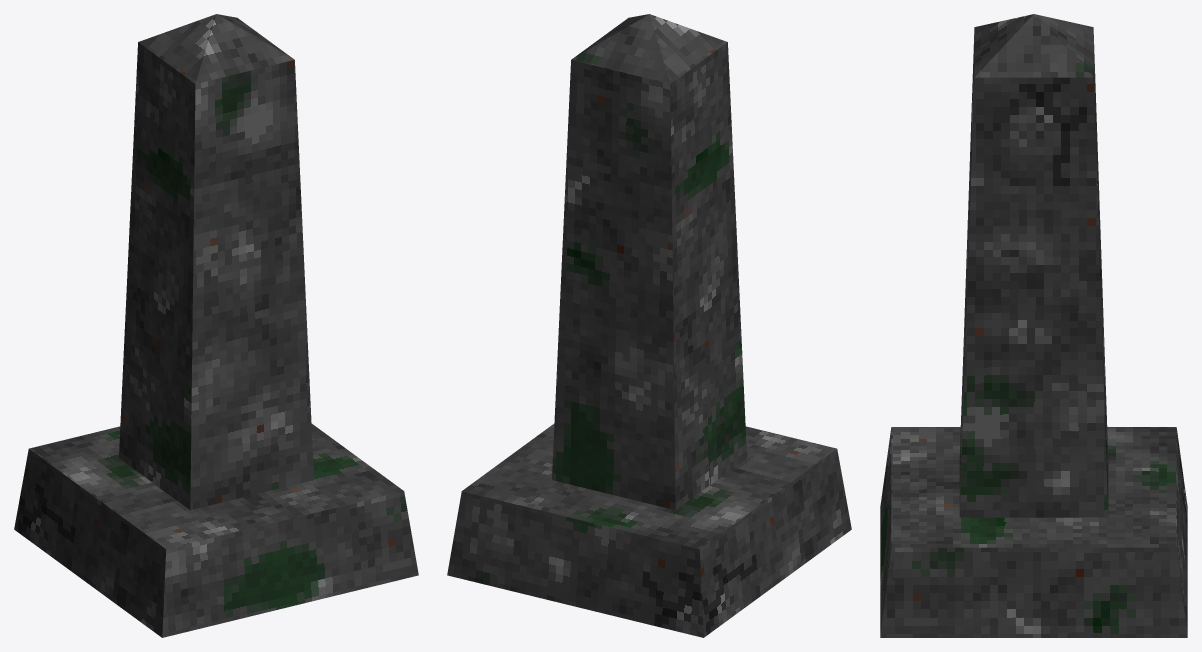
File: DestructableGravestone3.fbx
3 renders of one model, left to right at view 1: azimuth 30°, elevation 25°; view 2: azimuth 150°, elevation 25°; view 3: azimuth 270°, elevation 25°, orthographic. The views are drawn at different scales.
Parts seen in each view (by area): view 1: Destructable Gravestone3, Cube.033_cell.032, Cube.033_cell.027, Cube.033_cell.011, Cube.033_cell.035, Cube.033_cell.007, Cube.033_cell.023, Cube.033_cell.034, Cube.033_cell.029_cell.004, Cube.033_cell.020, Cube.033_cell.012_cell.001, Cube.033_cell.012_cell.003 (+9 smaller); view 2: Destructable Gravestone3, Cube.033_cell.023, Cube.033_cell.032, Cube.033_cell.034, Cube.033_cell.024, Cube.033_cell.007, Cube.033_cell.009, Cube.033_cell.021_cell.001, Cube.033_cell.030_cell.006; view 3: Destructable Gravestone3, Cube.033_cell.035, Cube.033_cell.011, Cube.033_cell.020, Cube.033_cell.027, Cube.033_cell.026, Cube.033_cell.032, Cube.033_cell.024, Cube.033_cell.021_cell.002, Cube.033_cell.021_cell.001, Cube.033_cell.012_cell.001, Cube.033_cell.021_cell.004 (+7 smaller).
Part boxes in pixels (left/top/right/bottom): Destructable Gravestone3: left=14, top=14, right=418, bottom=637; Cube.033_cell.032: left=155, top=26, right=297, bottom=209; Cube.033_cell.027: left=201, top=425, right=374, bottom=599; Cube.033_cell.011: left=193, top=252, right=308, bottom=395; Cube.033_cell.035: left=193, top=113, right=303, bottom=255; Cube.033_cell.007: left=136, top=415, right=246, bottom=621; Cube.033_cell.023: left=96, top=378, right=187, bottom=575; Cube.033_cell.034: left=131, top=16, right=250, bottom=212; Cube.033_cell.029_cell.004: left=227, top=566, right=304, bottom=619; Cube.033_cell.020: left=312, top=432, right=392, bottom=486; Cube.033_cell.012_cell.001: left=273, top=372, right=311, bottom=433; Cube.033_cell.012_cell.003: left=225, top=381, right=274, bottom=429; Destructable Gravestone3: left=447, top=14, right=851, bottom=637; Cube.033_cell.023: left=704, top=360, right=816, bottom=518; Cube.033_cell.032: left=599, top=15, right=733, bottom=172; Cube.033_cell.034: left=573, top=45, right=707, bottom=235; Cube.033_cell.024: left=611, top=498, right=765, bottom=631; Cube.033_cell.007: left=741, top=362, right=848, bottom=515; Cube.033_cell.009: left=759, top=540, right=787, bottom=596; Cube.033_cell.021_cell.001: left=491, top=450, right=552, bottom=469; Cube.033_cell.030_cell.006: left=809, top=514, right=832, bottom=551; Destructable Gravestone3: left=880, top=14, right=1187, bottom=637; Cube.033_cell.035: left=967, top=119, right=1100, bottom=304; Cube.033_cell.011: left=963, top=201, right=1104, bottom=455; Cube.033_cell.020: left=914, top=511, right=1079, bottom=625; Cube.033_cell.027: left=880, top=383, right=997, bottom=576; Cube.033_cell.026: left=1007, top=431, right=1105, bottom=517; Cube.033_cell.032: left=970, top=16, right=1049, bottom=152; Cube.033_cell.024: left=1107, top=427, right=1187, bottom=517; Cube.033_cell.021_cell.002: left=1118, top=558, right=1179, bottom=637; Cube.033_cell.021_cell.001: left=1060, top=523, right=1131, bottom=567; Cube.033_cell.012_cell.001: left=961, top=389, right=1020, bottom=465; Cube.033_cell.021_cell.004: left=1071, top=568, right=1125, bottom=621.
Size of the model in its own units: 56.93 by 114 by 56.93.
